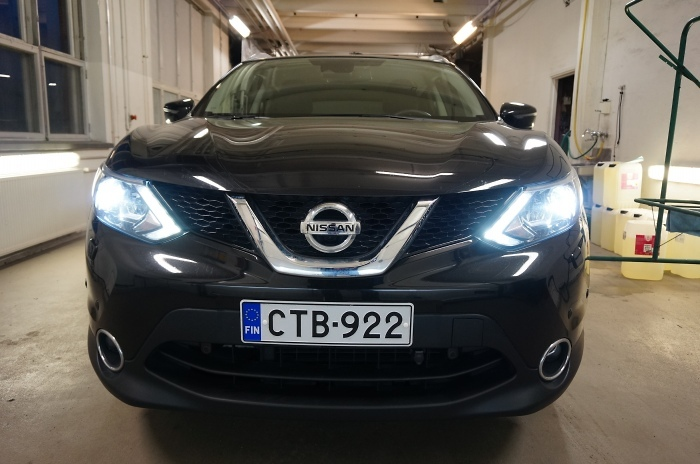license: (239, 298, 413, 351)
